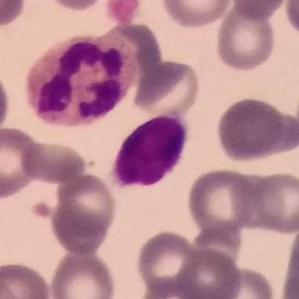Lymphocyte: (108, 109, 193, 193)
Neutrophil: (23, 27, 150, 132)
Platelets: (102, 0, 144, 26)
RBC: (48, 171, 119, 256), (214, 95, 292, 164), (184, 166, 259, 237), (133, 228, 202, 296), (213, 1, 278, 72), (130, 57, 203, 117), (47, 245, 118, 299), (175, 246, 243, 299), (247, 169, 299, 236), (20, 138, 89, 185), (0, 125, 42, 201), (111, 164, 180, 210), (204, 264, 278, 299), (158, 0, 234, 29), (0, 259, 53, 298), (136, 276, 211, 299), (279, 222, 299, 298), (227, 0, 290, 21), (38, 0, 117, 13), (0, 64, 12, 140), (0, 0, 28, 30), (278, 264, 298, 299), (282, 0, 299, 39), (292, 81, 299, 154)
